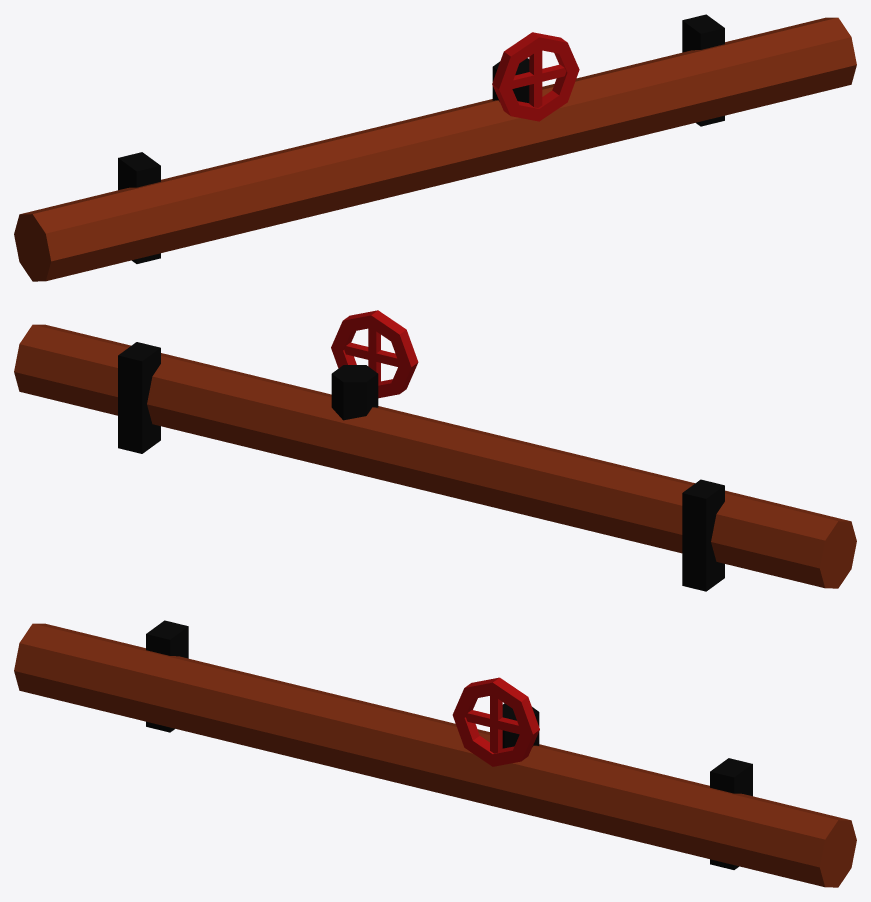
File: SM_Hide_WallPipe_2m.glb
3 renders of one model, top to bottom at view 1: azimuth 30°, elevation 25°; view 2: azimuth 150°, elevation 25°; view 3: azimuth 330°, elevation 25°, orthographic.
Parts seen in each view (by area): view 1: SM_Hide_WallPipe_2m-col; view 2: SM_Hide_WallPipe_2m-col; view 3: SM_Hide_WallPipe_2m-col.
Boxes of the visible parts, box(x1,y1,x2,y2) form: SM_Hide_WallPipe_2m-col: box(14, 14, 856, 281); SM_Hide_WallPipe_2m-col: box(14, 310, 856, 591); SM_Hide_WallPipe_2m-col: box(14, 620, 856, 887).
Bounding box in the file's own units: 2 × 0.37 × 0.2.
